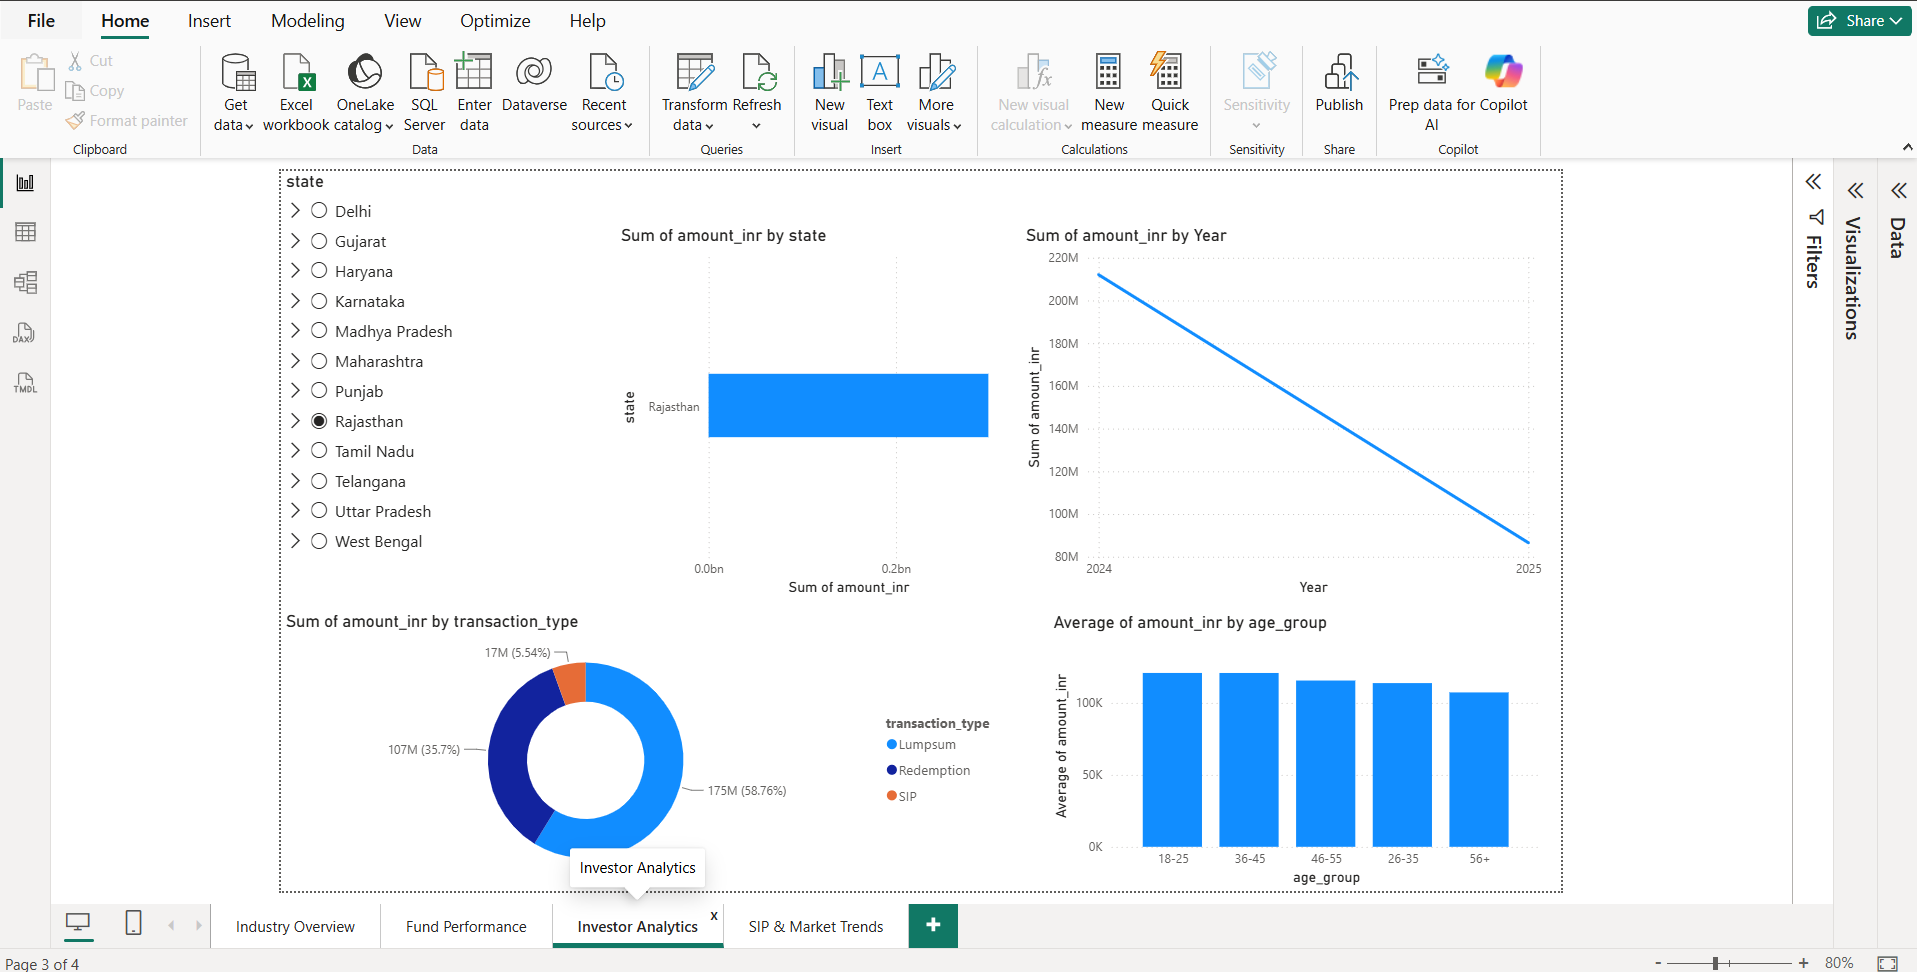

This screenshot's page, from the dashboard's own definition file:
{"tool":"powerbi","page":{"name":"Investor Analytics","canvas":[1280,720],"ordinal":2},"visuals":[{"type":"clusteredBarChart","fields":{"Category":["08_investor_transactions.state"],"Y":["Sum(08_investor_transactions.amount_inr)"]},"box":[334.8,53.5,393.8,376],"z":0},{"type":"donutChart","fields":{"Category":["08_investor_transactions.transaction_type"],"Y":["Sum(08_investor_transactions.amount_inr)"]},"box":[0,440.5,728.6,279.9],"z":1000},{"type":"clusteredColumnChart","fields":{"Category":["08_investor_transactions.age_group"],"Y":["Avg(08_investor_transactions.amount_inr)"]},"box":[767.1,441.9,498.1,278.6],"z":2000},{"type":"lineChart","fields":{"Category":["08_investor_transactions.transaction_date.Variation.Date Hierarchy.Year","08_investor_transactions.transaction_date.Variation.Date Hierarchy.Quarter","08_investor_transactions.transaction_date.Variation.Date Hierarchy.Month","08_investor_transactions.transaction_date.Variation.Date Hierarchy.Day"],"Y":["Sum(08_investor_transactions.amount_inr)"]},"box":[739.6,53.5,525.6,376],"z":3000},{"type":"listSlicer","fields":{"Values":["08_investor_transactions.state","08_investor_transactions.age_group","08_investor_transactions.city"]},"box":[0,0,307.4,406.2],"z":4000}]}

Visuals, with their boxes on the page's 1280x720 design canvas (x1, y1, x2, y2). These are canvas units, not pixel positions in the 1917x972 screenshot, which may show the page scaled, cropped or inside an application window:
clusteredBarChart - 08_investor_transactions.state x Sum(08_investor_transactions.amount_inr): Rect(335, 54, 729, 430)
donutChart - 08_investor_transactions.transaction_type x Sum(08_investor_transactions.amount_inr): Rect(0, 440, 729, 720)
clusteredColumnChart - 08_investor_transactions.age_group x Avg(08_investor_transactions.amount_inr): Rect(767, 442, 1265, 720)
lineChart - 08_investor_transactions.transaction_date.Variation.Date Hierarchy.Year x 08_investor_transactions.transaction_date.Variation.Date Hierarchy.Quarter: Rect(740, 54, 1265, 430)
listSlicer - 08_investor_transactions.state x 08_investor_transactions.age_group: Rect(0, 0, 307, 406)
